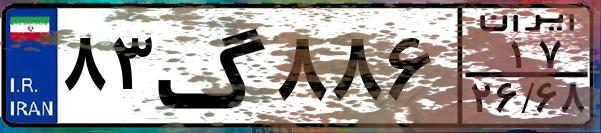1: (508, 27, 537, 80)
2: (470, 70, 495, 125)
3: (110, 28, 156, 98)
6: (385, 28, 445, 110), (495, 70, 520, 125), (535, 70, 560, 125)
7: (537, 27, 568, 80)
8: (270, 28, 330, 110), (330, 28, 385, 110), (57, 26, 110, 100), (560, 70, 590, 125)
گ: (156, 12, 270, 120)
